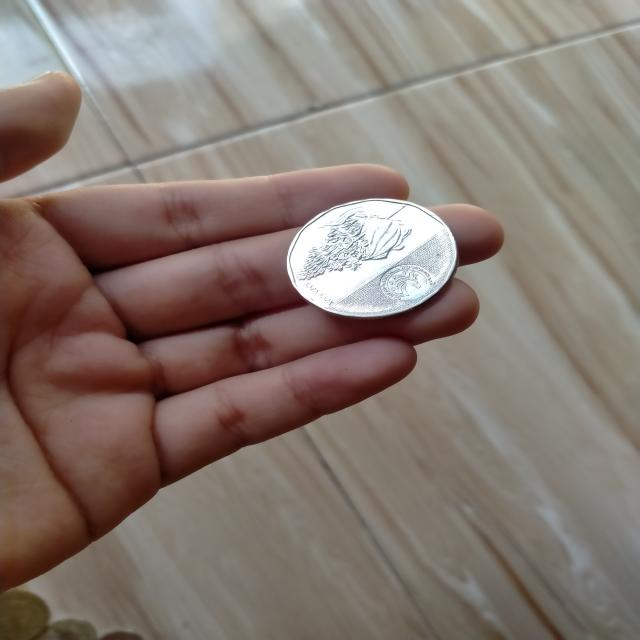10_New_Back: (291, 198, 417, 288)
